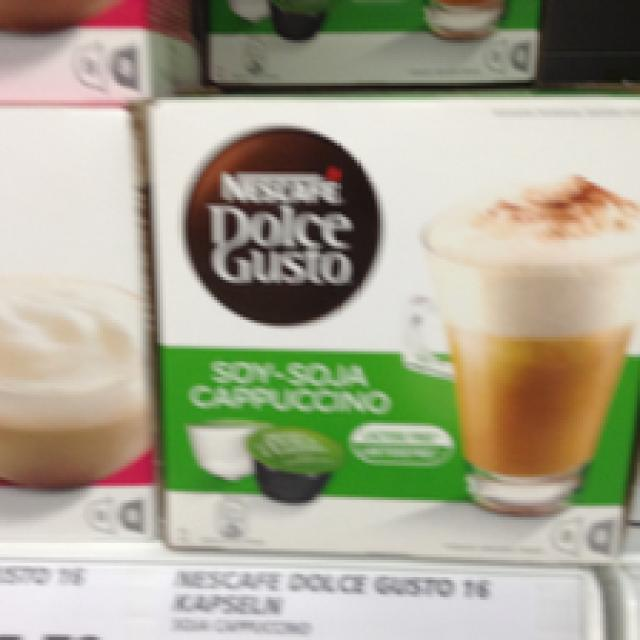groceries: (132, 89, 637, 548)
